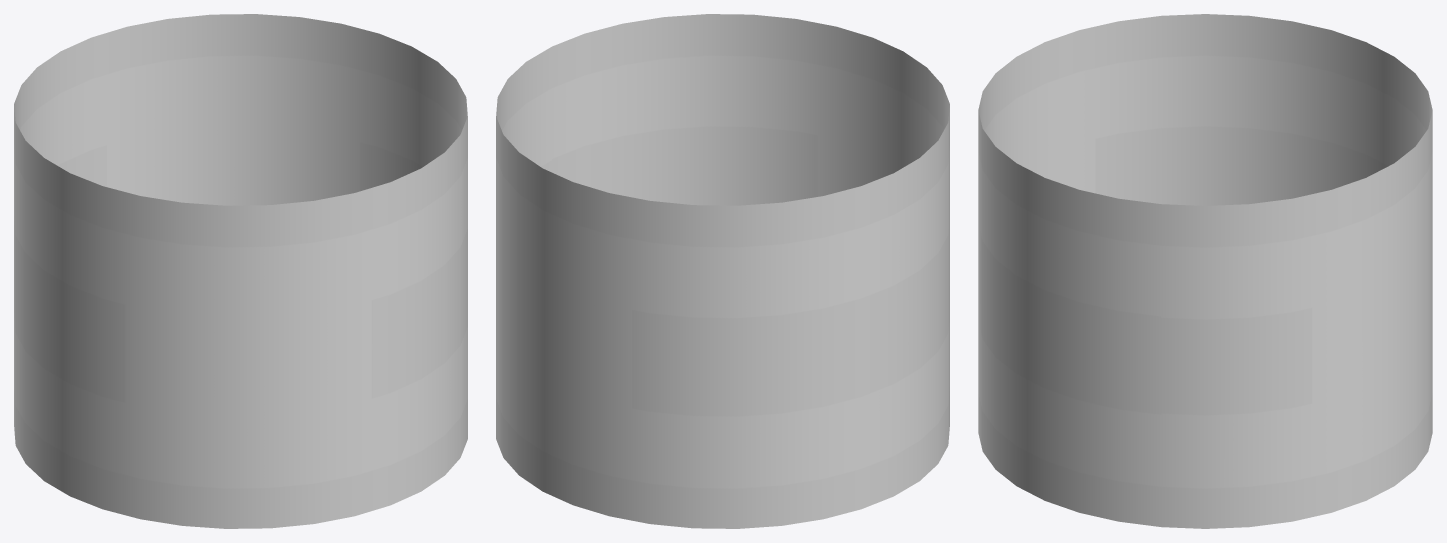
File: Armband.fbx
The picture shows the model from 3 angles, left to right: view 1: azimuth 30°, elevation 25°; view 2: azimuth 150°, elevation 25°; view 3: azimuth 270°, elevation 25°; orthographic projection.
Parts seen in each view (by area): view 1: Cylinder; view 2: Cylinder; view 3: Cylinder.
Part boxes in pixels (left/top/right/bottom): Cylinder: left=14, top=14, right=467, bottom=528; Cylinder: left=496, top=14, right=949, bottom=528; Cylinder: left=978, top=14, right=1432, bottom=528.
Size of the model in its own units: 15.02 by 11.78 by 15.02.
